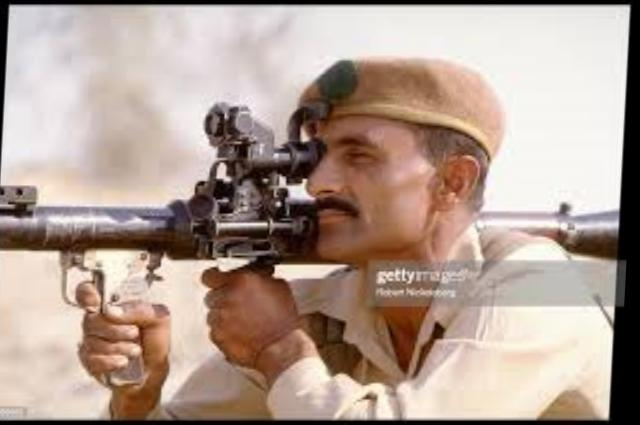other: (127, 80, 609, 415)
